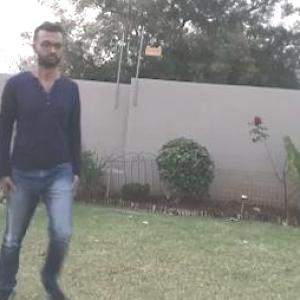follow: (0, 25, 86, 296)
